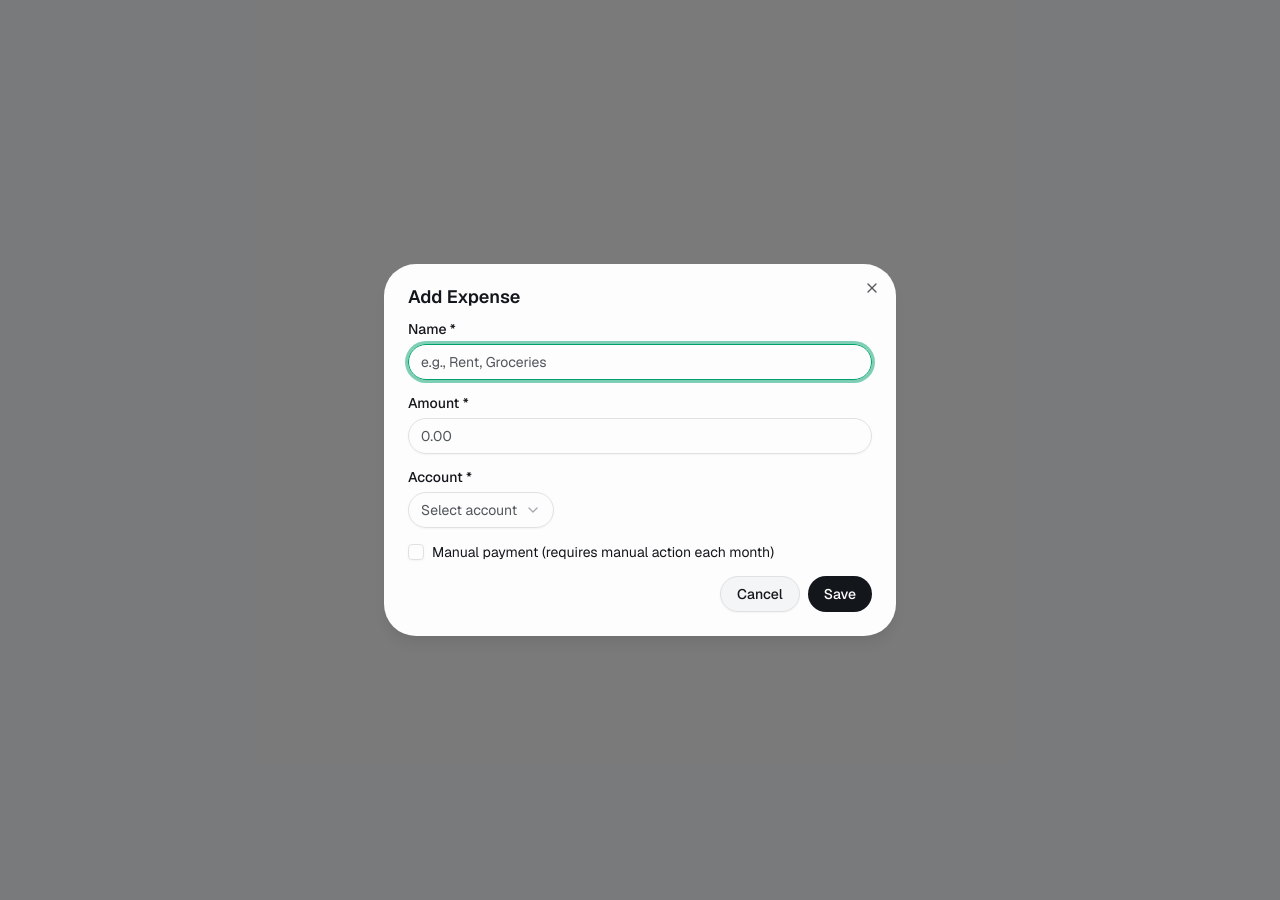
Test: ExpenseItemModal › shows validation error for invalid amount
The width and height of the screenshot is (1280, 900).
Type "Test" into the field labelled "Name *" at (640, 362), box [408, 344, 872, 380]
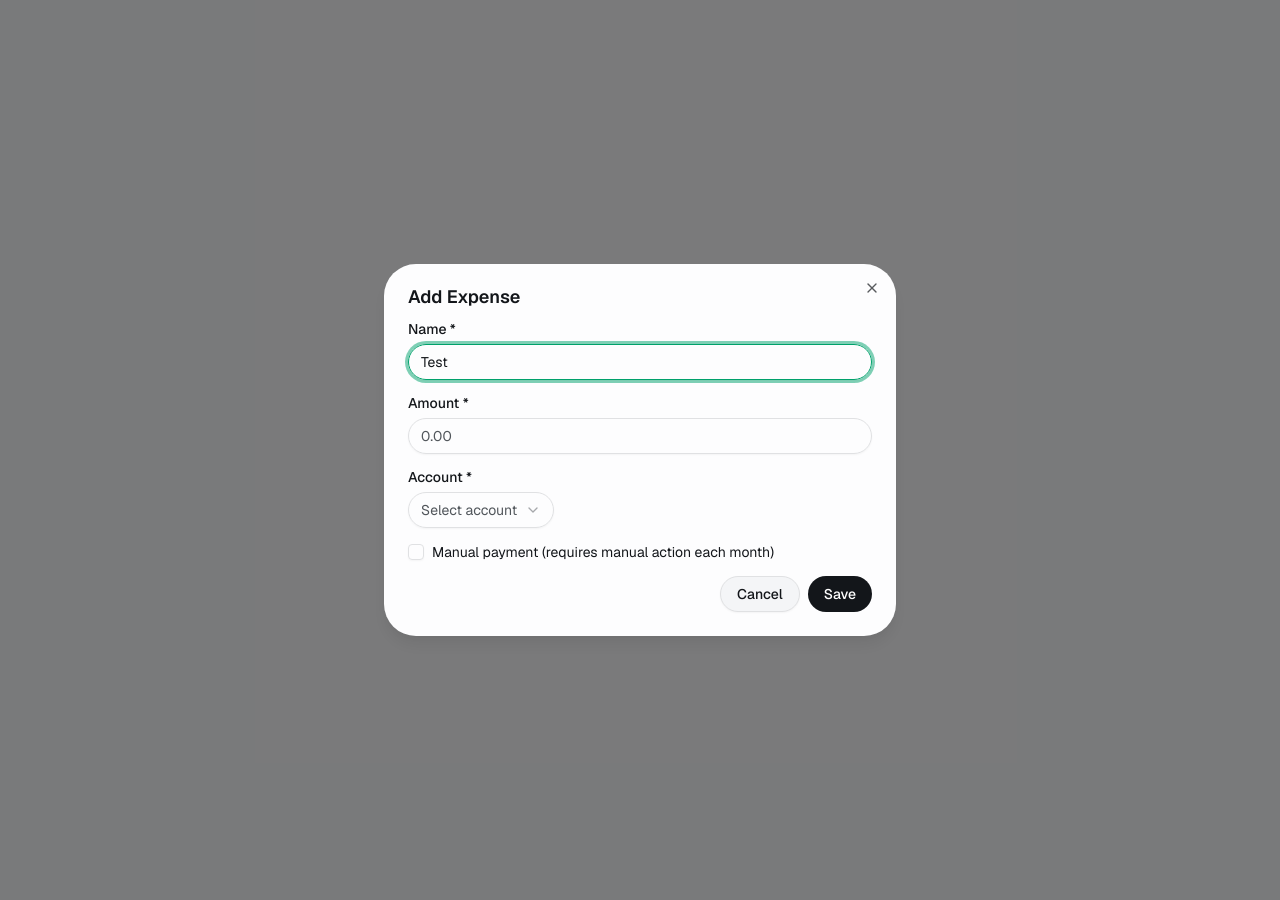
Type "-100" into the number field labelled "Amount *" at (640, 436), box [408, 418, 872, 454]
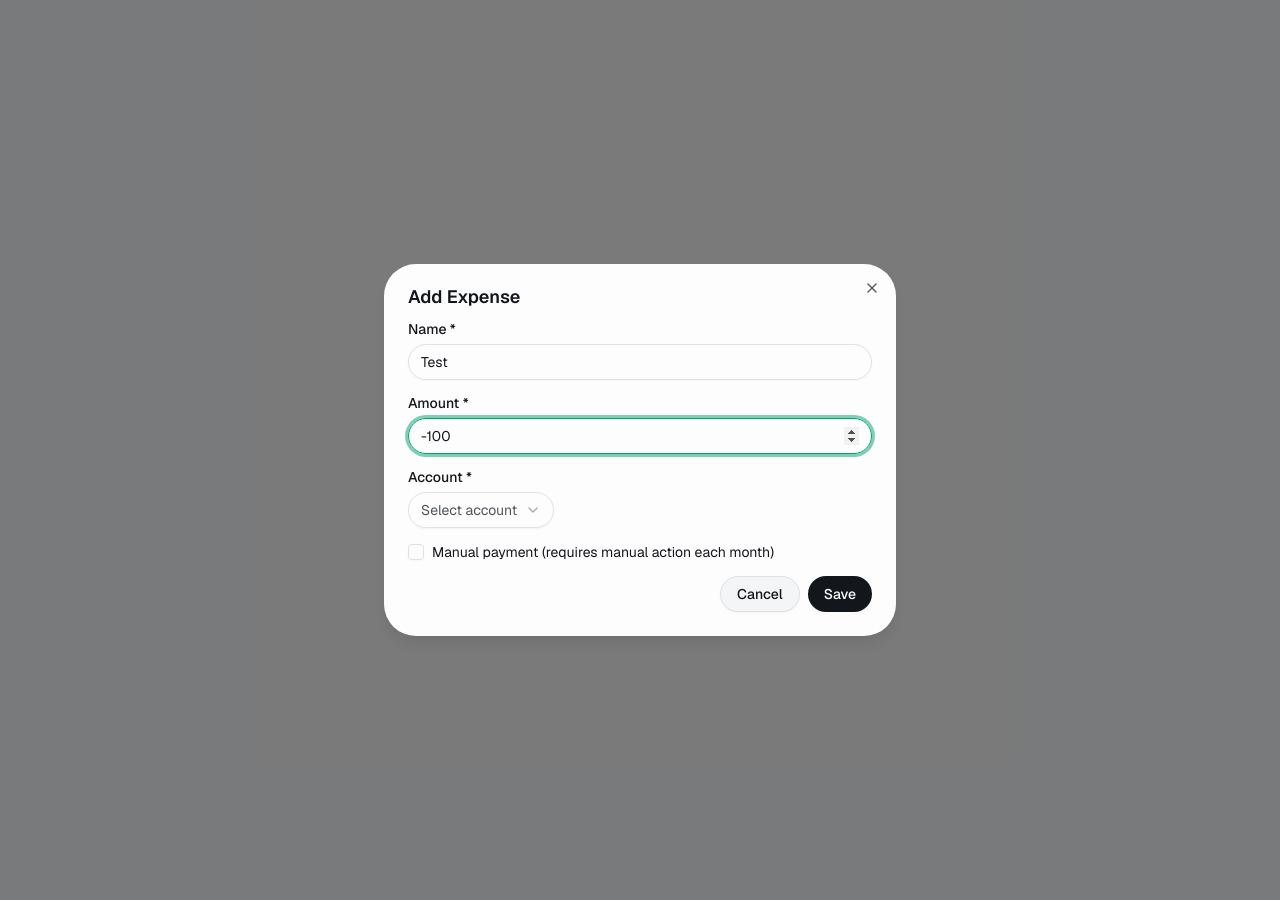
Click the button "Save" at (840, 594), box [808, 576, 872, 612]
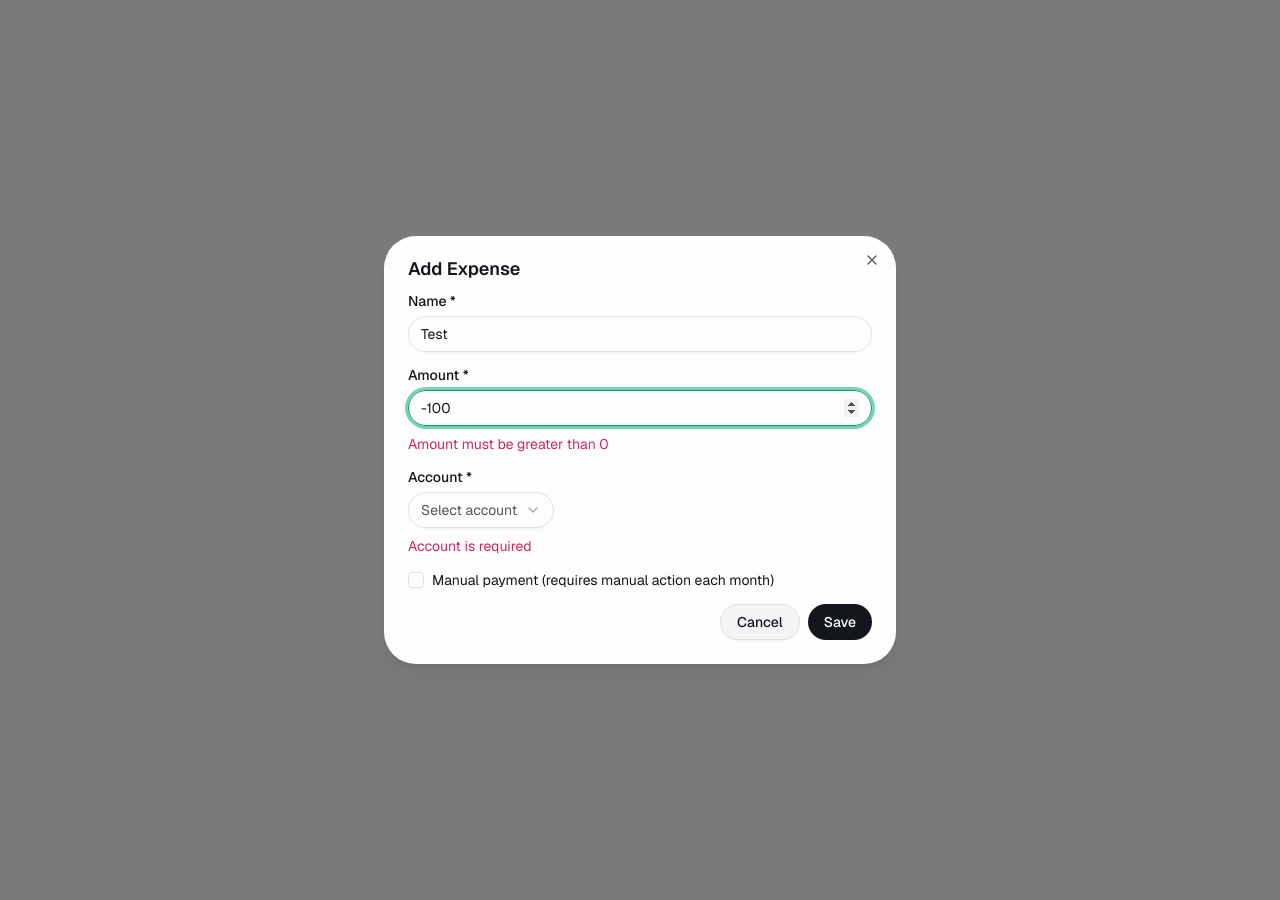
Expected: the text "Amount must be greater than 0" is shown, [408, 435, 609, 453]
